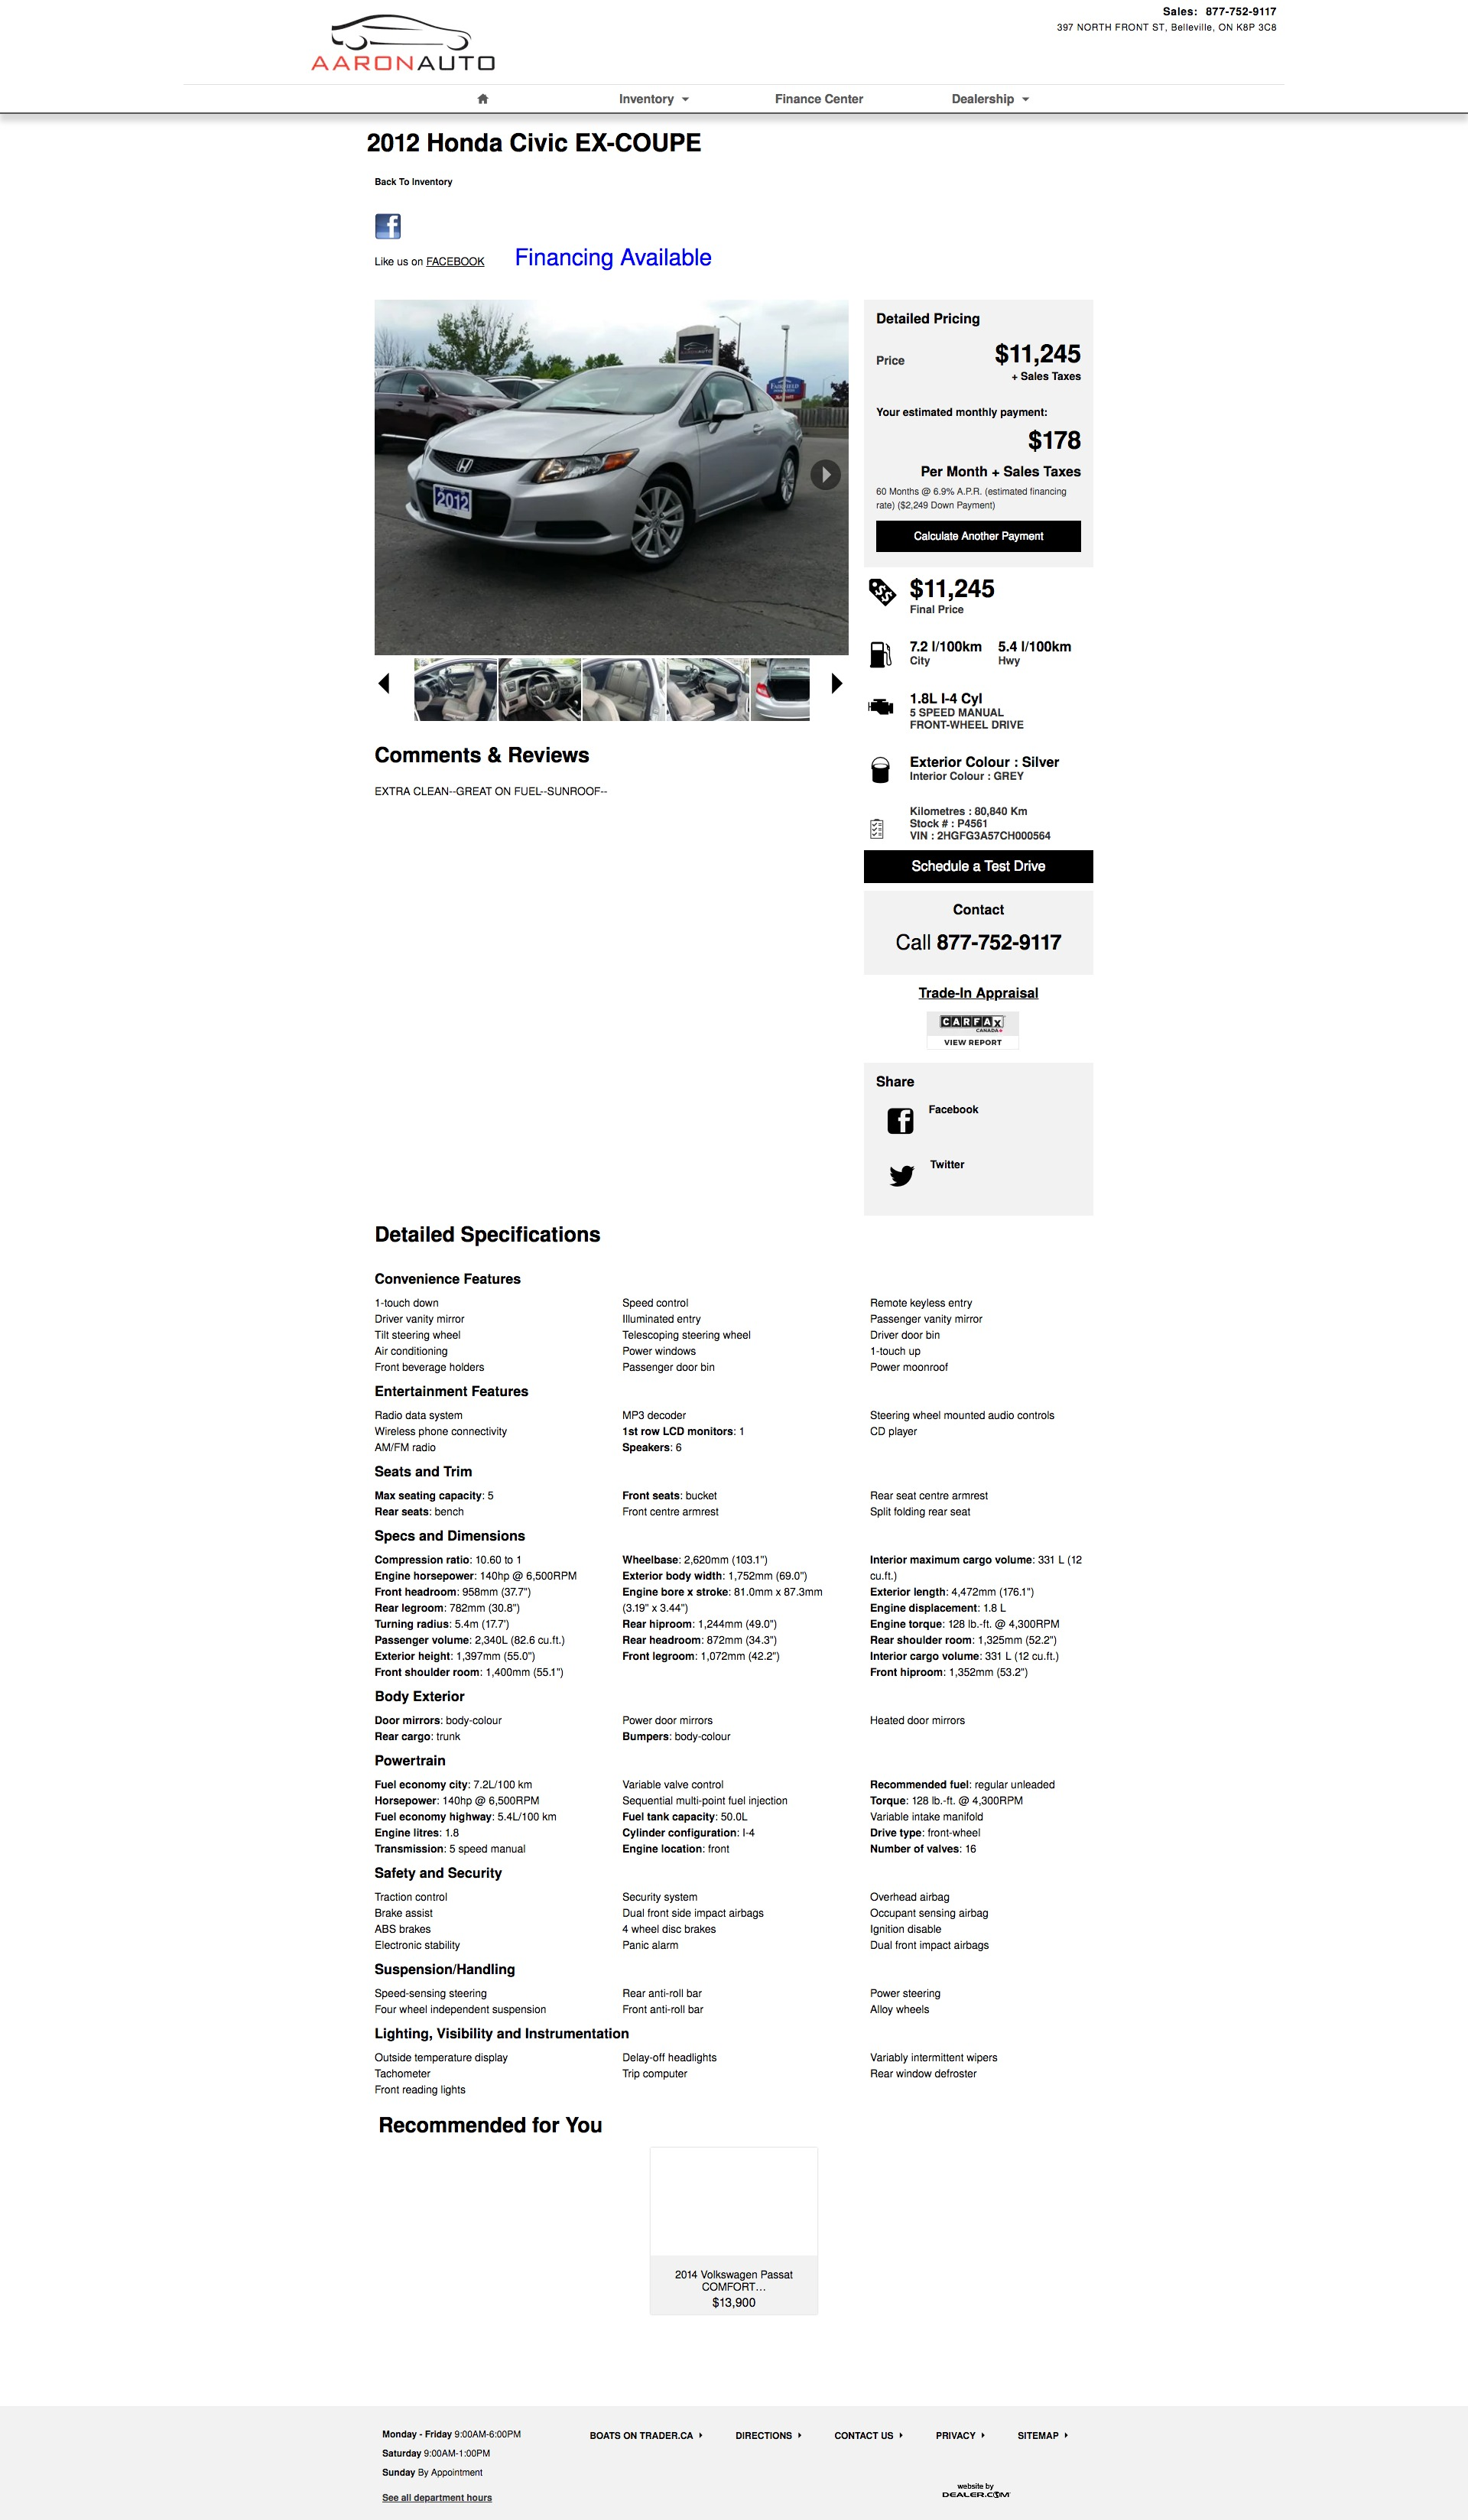car: (832, 673, 844, 696)
